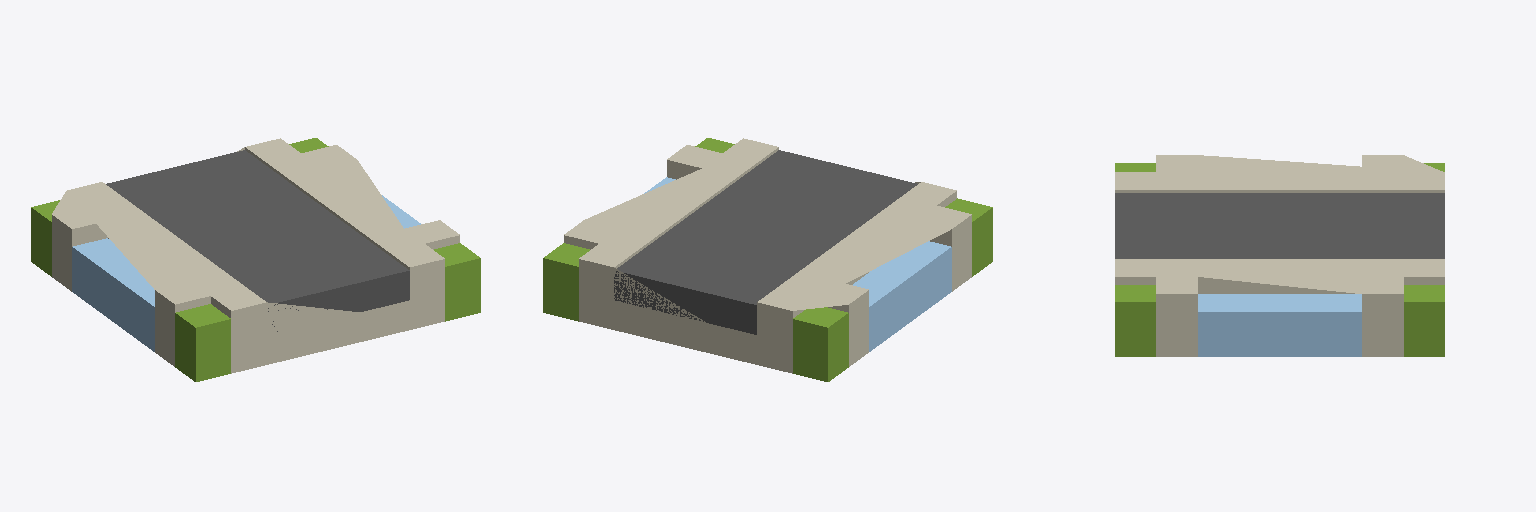
The model's file is roadTile_217.obj.
The picture shows the model from 3 angles: view 1: azimuth 30°, elevation 25°; view 2: azimuth 150°, elevation 25°; view 3: azimuth 270°, elevation 25°; orthographic projection.
Parts seen in each view (by area): view 1: Mesh1 Group1 Model; view 2: Mesh1 Group1 Model; view 3: Mesh1 Group1 Model.
Boxes of the visible parts, x1=… form: Mesh1 Group1 Model: x1=31, y1=138, x2=480, y2=381; Mesh1 Group1 Model: x1=543, y1=138, x2=992, y2=381; Mesh1 Group1 Model: x1=1115, y1=155, x2=1444, y2=356.
Size of the model in its own units: 3 by 0.63 by 3.